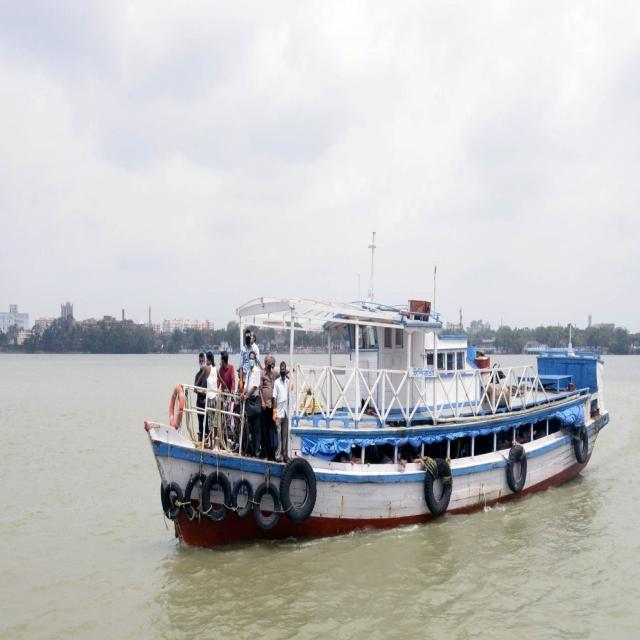fishing boat: (152, 288, 609, 534)
